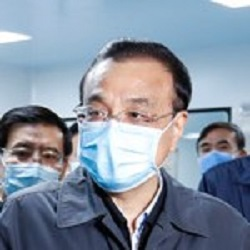mask: (74, 119, 163, 196)
